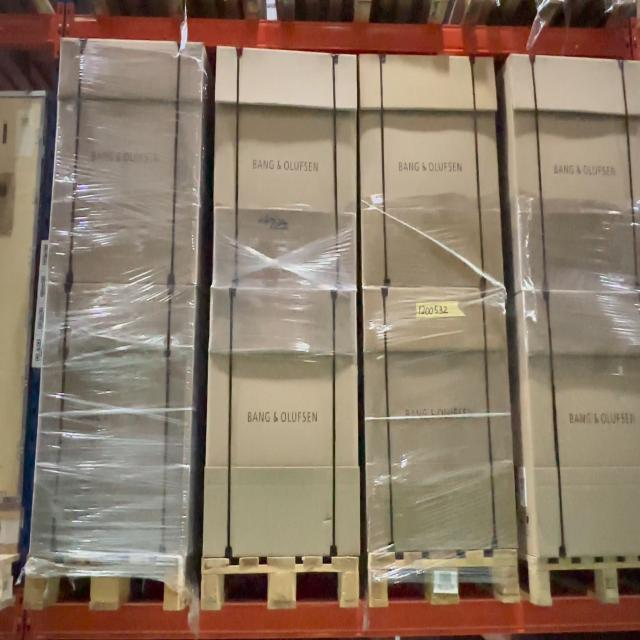box: (30, 285, 196, 557), (203, 287, 361, 559), (363, 287, 517, 553), (47, 38, 205, 288), (213, 46, 357, 287), (359, 55, 504, 288)
